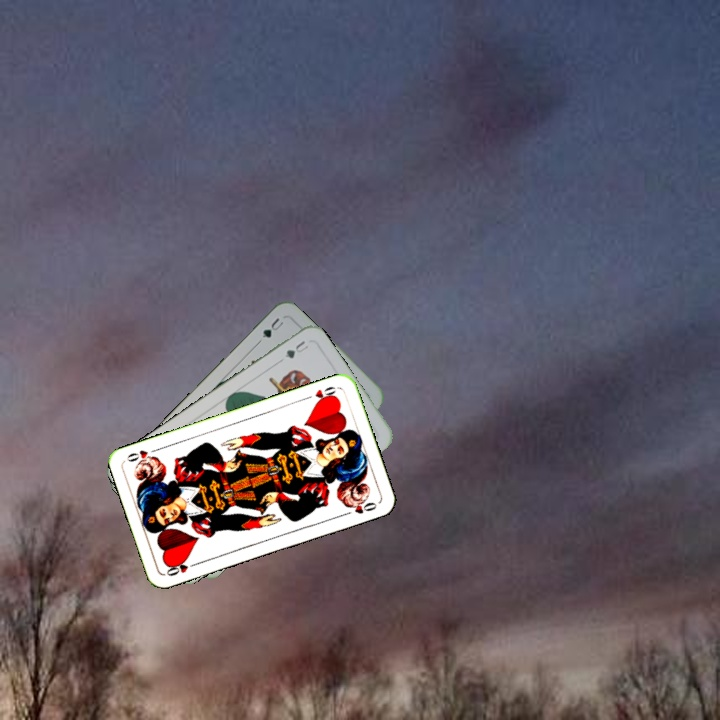GU: (281, 336, 313, 361), (258, 313, 286, 340)
HO: (301, 382, 338, 406), (162, 557, 201, 579)
